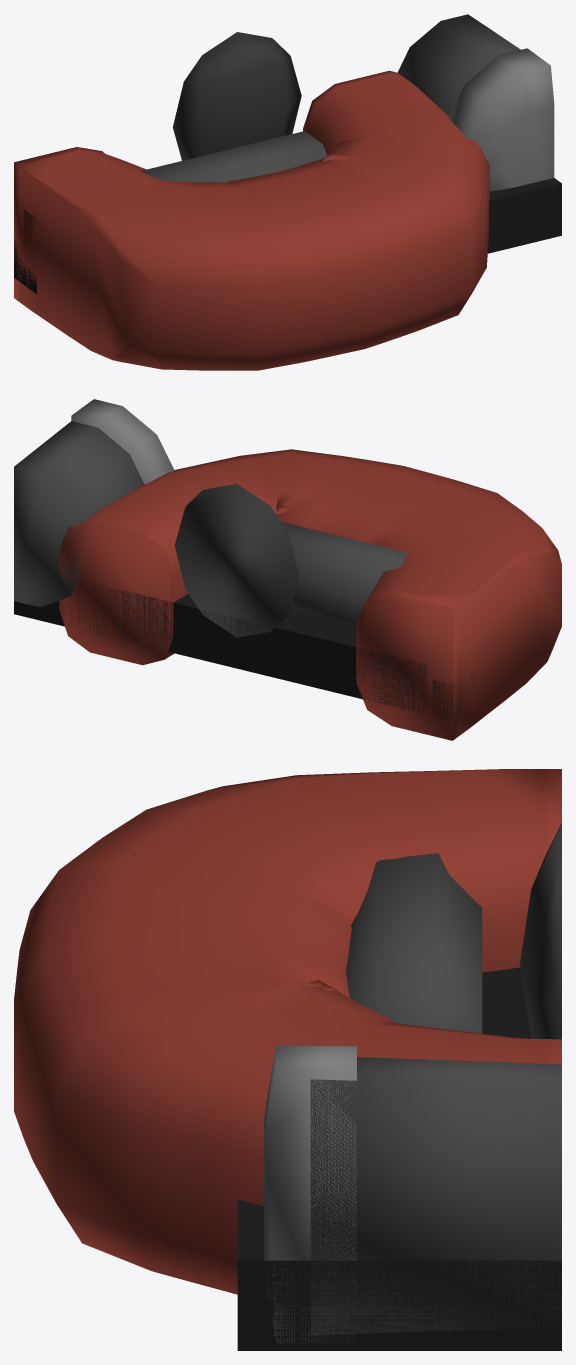
Rendered from newsht-43.glb.
3 renders of one model, top to bottom at view 1: azimuth 30°, elevation 25°; view 2: azimuth 150°, elevation 25°; view 3: azimuth 270°, elevation 25°, orthographic. The views are drawn at different scales.
Parts seen in each view (by area): view 1: newsht-43; view 2: newsht-43; view 3: newsht-43.
Part boxes in pixels (left/top/right/bottom): newsht-43: left=14, top=14, right=561, bottom=370; newsht-43: left=14, top=399, right=561, bottom=740; newsht-43: left=14, top=769, right=561, bottom=1350.
Size of the model in its own units: 2 by 0.8919 by 1.21.
